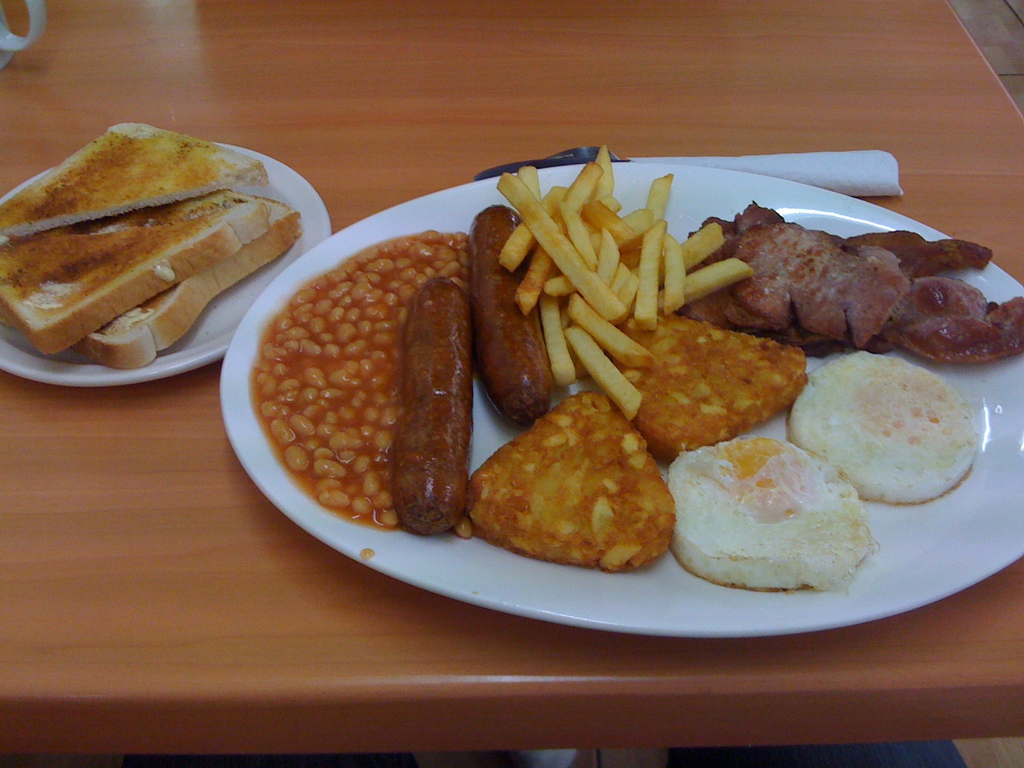French fries: (472, 165, 742, 440)
